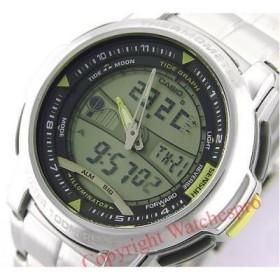watch: (7, 10, 277, 271)
